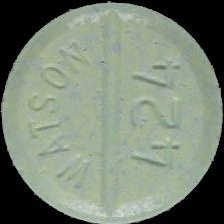68788-9791: (0, 0, 224, 224)
